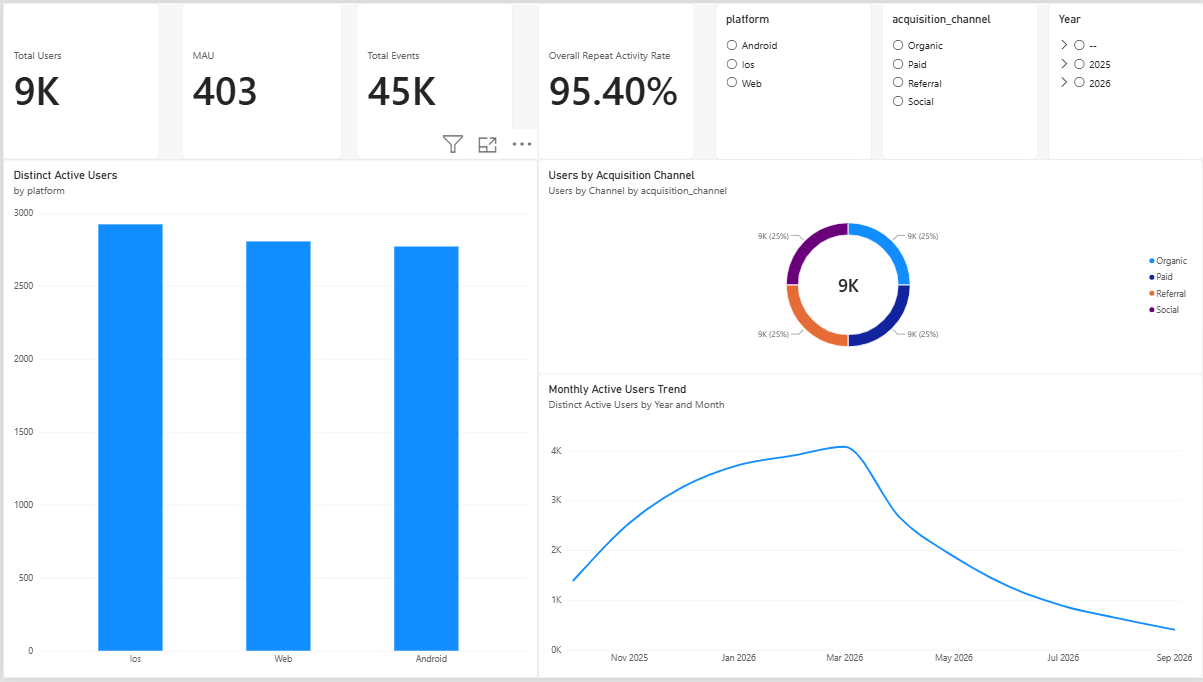

The dashboard page shown, as its layout file describes it:
{"tool":"powerbi","page":{"name":"Executive Overview","canvas":[1920,1080],"ordinal":0},"visuals":[{"type":"cardVisual","fields":{"Data":["user_events_clean.Total Users"]},"box":[0,0,250,250],"z":0},{"type":"cardVisual","title":"Monthly Active Users","fields":{"Data":["user_events_clean.MAU"]},"box":[286,0,256,250],"z":1000},{"type":"cardVisual","fields":{"Data":["user_events_clean.Total Events"]},"box":[566,0,250,250],"z":2000},{"type":"cardVisual","fields":{"Data":["user_events_clean.Overall Repeat Activity Rate"]},"box":[856.3,0,250,250],"z":3000},{"type":"lineChart","title":"Monthly Active Users Trend","fields":{"Category":["user_events_clean.Activity Date.Variation.Date Hierarchy.Year","user_events_clean.Activity Date.Variation.Date Hierarchy.Month"],"Y":["user_events_clean.Distinct Active Users"]},"box":[856,592,1064,488],"z":4000},{"type":"donutChart","title":"Users by Acquisition Channel","fields":{"Category":["user_events_clean.acquisition_channel"],"Y":["user_events_clean.Users by Channel"]},"box":[856.3,249.1,1064.2,343.7],"z":5000},{"type":"columnChart","fields":{"Category":["user_events_clean.platform"],"Y":["user_events_clean.Distinct Active Users"]},"box":[0,249.1,856.3,831.6],"z":6000},{"type":"listSlicer","fields":{"Values":["user_events_clean.acquisition_channel"]},"box":[1405.8,0,250,250],"z":7000},{"type":"listSlicer","fields":{"Values":["user_events_clean.platform"]},"box":[1140.3,0,250,250],"z":8000},{"type":"listSlicer","fields":{"Values":["user_events_clean.Activity Date.Variation.Date Hierarchy.Year","user_events_clean.Activity Date.Variation.Date Hierarchy.Quarter","user_events_clean.Activity Date.Variation.Date Hierarchy.Month","user_events_clean.Activity Date.Variation.Date Hierarchy.Day"]},"box":[1671.4,0,250,250],"z":9000}]}

Visuals, with their boxes in screenshot pixels (x1, y1, x2, y2), scaled from the page's 1920x1080 canvas onto the 1203x682 screenshot:
cardVisual - user_events_clean.Total Users: box=[0, 0, 157, 158]
"Monthly Active Users" cardVisual: box=[179, 0, 340, 158]
cardVisual - user_events_clean.Total Events: box=[355, 0, 511, 158]
cardVisual - user_events_clean.Overall Repeat Activity Rate: box=[537, 0, 693, 158]
"Monthly Active Users Trend" lineChart: box=[536, 374, 1202, 681]
"Users by Acquisition Channel" donutChart: box=[537, 157, 1202, 374]
columnChart - user_events_clean.platform x user_events_clean.Distinct Active Users: box=[0, 157, 537, 681]
listSlicer - user_events_clean.acquisition_channel: box=[881, 0, 1037, 158]
listSlicer - user_events_clean.platform: box=[714, 0, 871, 158]
listSlicer - user_events_clean.Activity Date.Variation.Date Hierarchy.Year x user_events_clean.Activity Date.Variation.Date Hierarchy.Quarter: box=[1047, 0, 1202, 158]
